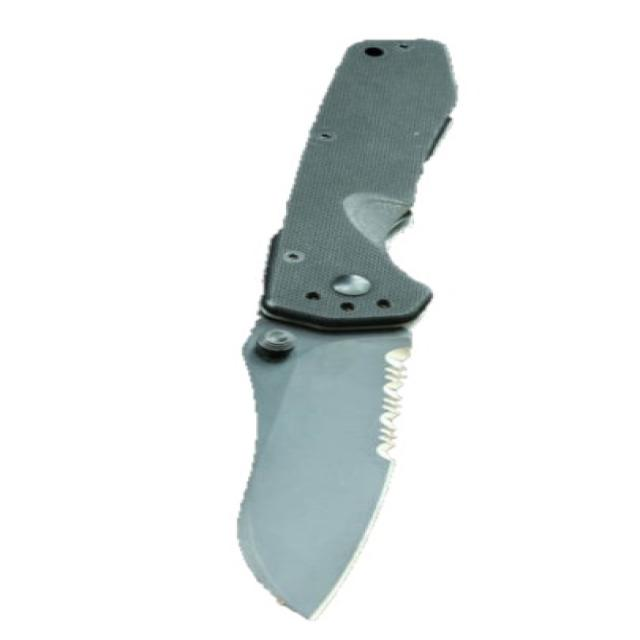knife: (233, 27, 465, 634)
